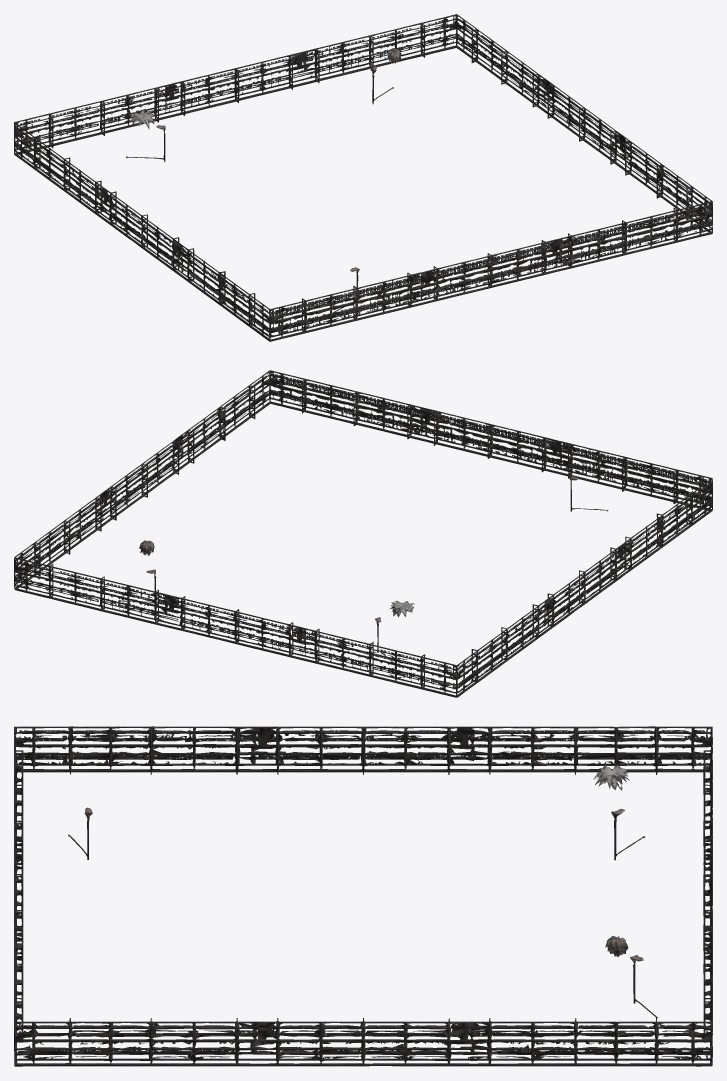
Rendered from venice-blacktop.glb.
3 renders of one model, top to bottom at view 1: azimuth 30°, elevation 25°; view 2: azimuth 150°, elevation 25°; view 3: azimuth 270°, elevation 25°, orthographic. The views are drawn at different scales.
Visible parts, largest first — view 1: Environment; view 2: Environment; view 3: Environment.
Boxes of the visible parts, box(x1,y1,x2,y2) form: Environment: box(14, 14, 712, 341); Environment: box(14, 370, 712, 697); Environment: box(14, 726, 712, 1066).
Bounding box in the file's own units: 2 × 0.2412 × 2.
Materials: 1 (1 with a texture image).
